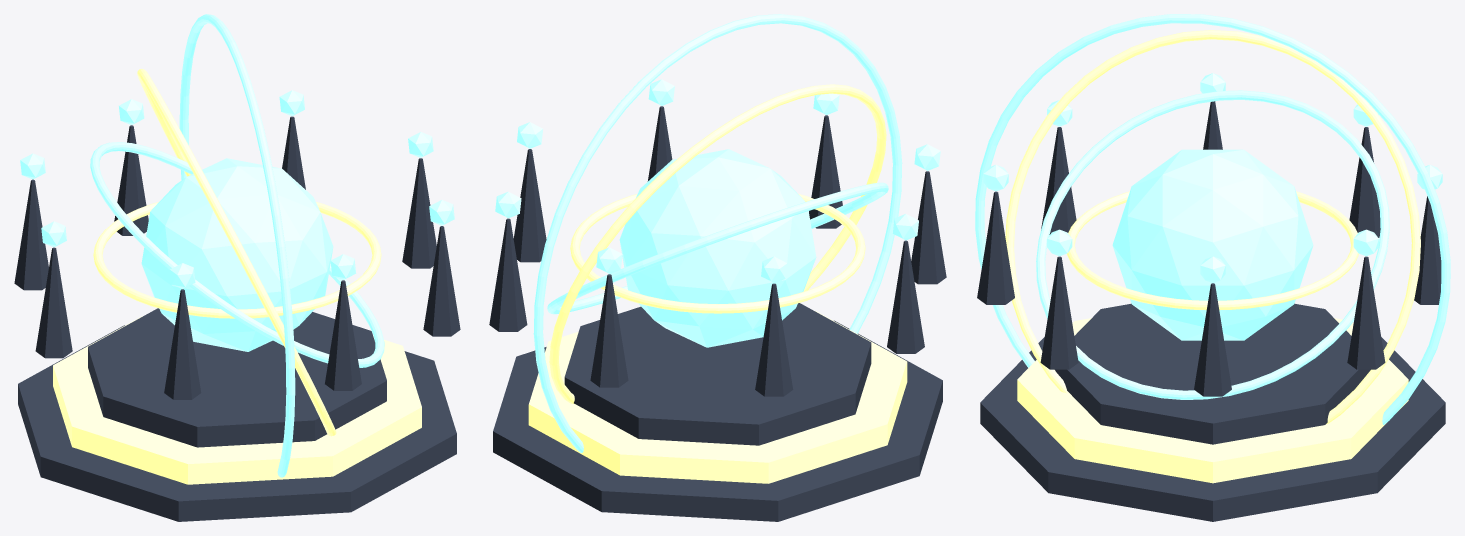
File: gpu-blender-v50.glb
The picture shows the model from 3 angles, left to right: view 1: azimuth 30°, elevation 25°; view 2: azimuth 150°, elevation 25°; view 3: azimuth 270°, elevation 25°; orthographic projection. The views are drawn at different scales.
Visible parts, largest first — view 1: Cylinder.002, SovereignCore_1nc0gn30.github.io, Cylinder, Cylinder.001, Torus.003, Torus.001, Torus.002, Torus, Cone.004, Cone.007, Cone.005, Cone.006 (+12 smaller); view 2: Cylinder.002, SovereignCore_1nc0gn30.github.io, Cylinder, Cylinder.001, Torus.003, Torus.002, Torus.001, Torus, Cone.002, Cone.003, Cone.001, Cone.004 (+11 smaller); view 3: SovereignCore_1nc0gn30.github.io, Cylinder.002, Cylinder, Cylinder.001, Torus.003, Torus.002, Torus.001, Torus, Cone, Cone.001, Cone.007, Cone.006 (+8 smaller).
Part boxes in pixels (x1,y1,x2,y2): Cylinder.002: (88, 308, 386, 447); SovereignCore_1nc0gn30.github.io: (141, 158, 333, 351); Cylinder: (18, 325, 456, 521); Cylinder.001: (53, 316, 421, 484); Torus.003: (179, 14, 295, 477); Torus.001: (90, 142, 384, 367); Torus.002: (137, 69, 336, 436); Torus: (93, 202, 381, 318); Cone.004: (35, 247, 72, 358); Cone.007: (423, 226, 460, 336); Cone.005: (164, 289, 201, 399); Cone.006: (325, 280, 361, 390); Cylinder.002: (564, 303, 871, 445); SovereignCore_1nc0gn30.github.io: (619, 149, 816, 347); Cylinder: (493, 320, 942, 521); Cylinder.001: (528, 311, 907, 483); Torus.003: (533, 14, 902, 452); Torus.002: (549, 84, 886, 403); Torus.001: (547, 182, 888, 314); Torus: (570, 193, 865, 313); Cone.002: (590, 274, 628, 387); Cone.003: (755, 283, 793, 396); Cone.001: (489, 218, 527, 331); Cone.004: (887, 240, 924, 353); SovereignCore_1nc0gn30.github.io: (1112, 149, 1313, 340); Cylinder.002: (1055, 303, 1370, 444); Cylinder: (980, 337, 1445, 521); Cylinder.001: (1017, 318, 1408, 483); Torus.003: (975, 14, 1450, 424); Torus.002: (1005, 30, 1420, 423); Torus.001: (1036, 90, 1389, 399); Torus: (1067, 191, 1358, 310); Cone: (1194, 283, 1231, 396); Cone.001: (1347, 256, 1385, 369); Cone.007: (1040, 256, 1078, 369); Cone.006: (977, 191, 1014, 304).
Bounding box in the file's own units: 4.41 × 4.7 × 4.49.
